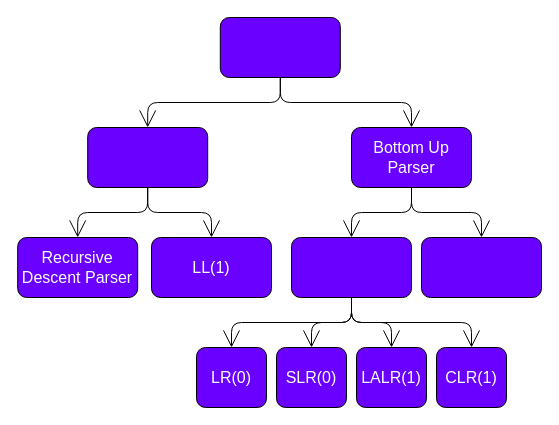
The diagram is 559 pixels wide and 425 high, and some of its shapes have lost their labels. Each missing label, with the centre of its shape:
"LR Parser" goes at point (351, 267).
"Operator Precedence Parser" goes at point (481, 267).
"Parsers" goes at point (279, 47).
"Top-Down Parser" goes at point (147, 157).
